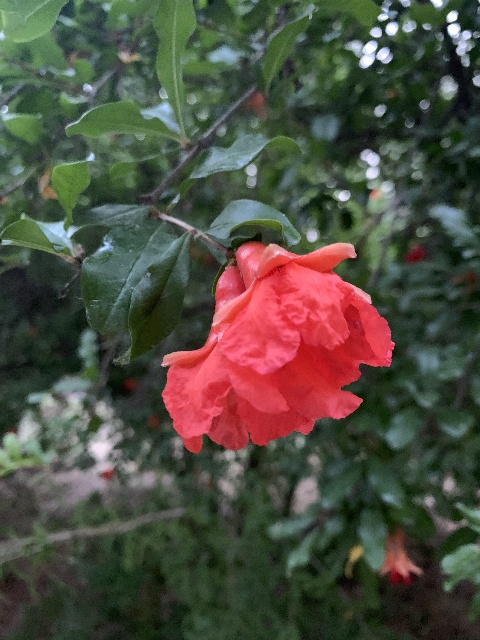flower: (205, 239, 394, 437), (160, 266, 292, 453), (377, 525, 422, 586)
